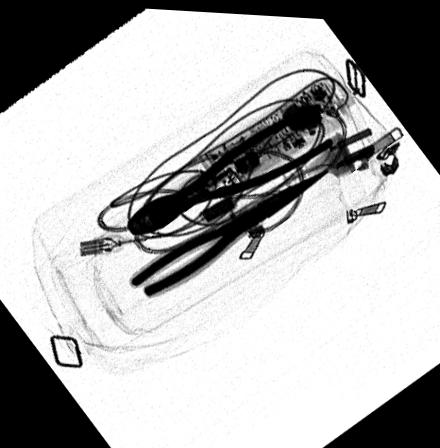Pliers: (119, 101, 336, 238), (125, 162, 332, 299)
